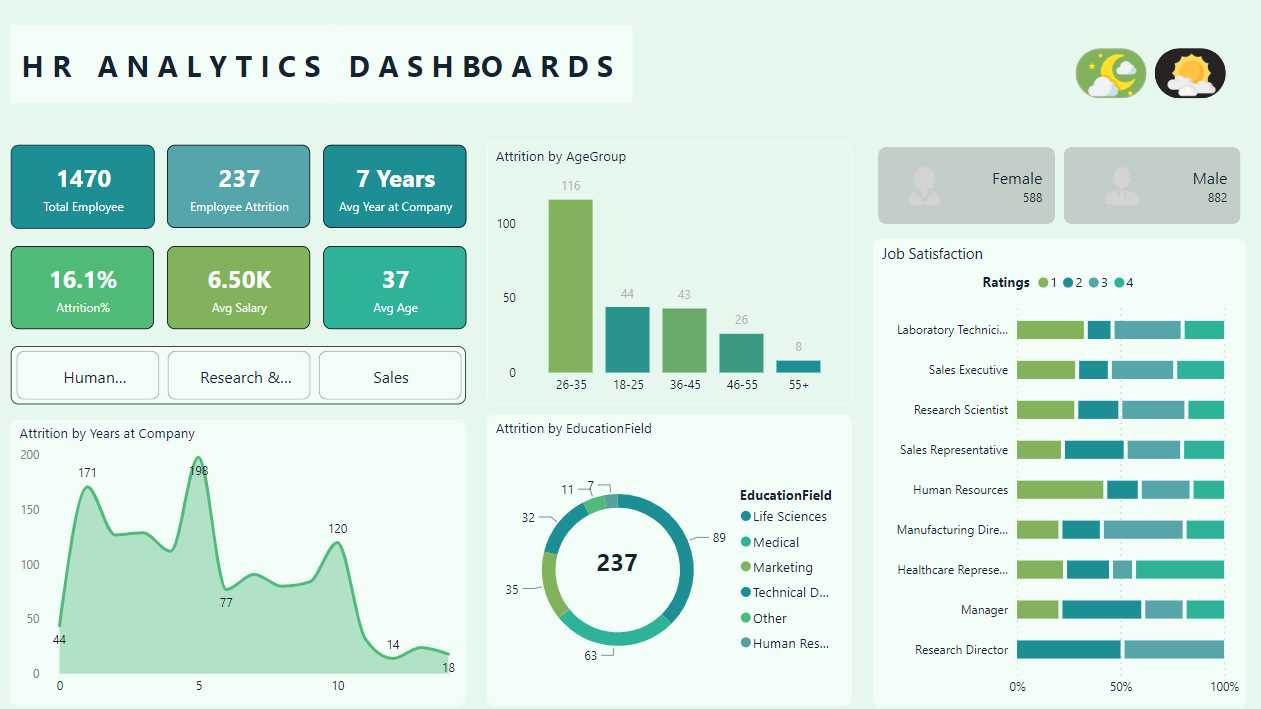

What the dashboard file says about the page in this screenshot:
{"tool":"powerbi","page":{"name":"OVERVIEW","canvas":[1280,720],"ordinal":0},"visuals":[{"type":"shape","box":[0,0,1280,710],"z":0},{"type":"shape","box":[18.6,28.6,71.4,78.6],"z":0,"group":"g1"},{"type":"shape","box":[90,28.6,254.3,78.6],"z":1000,"group":"g1"},{"type":"image","box":[1106.2,166.2,47.5,47.5],"z":1000},{"type":"shape","box":[337.2,28.6,302.9,78.6],"z":2000,"group":"g1"},{"type":"image","box":[908.8,166.2,47.5,47.5],"z":2000},{"type":"card","fields":{"Values":["Key Measures.Employee Count"]},"box":[18.8,148.8,143.8,83.8],"z":3000},{"type":"areaChart","title":"Attrition by Years at Company","fields":{"Y":["CountNonNull(HR_Analytics.Attrition)"],"Category":["HR_Analytics.YearsAtCompany"]},"box":[18.8,423.8,455,286.2],"z":4000},{"type":"donutChart","title":"Attrition by EducationField","fields":{"Y":["Key Measures.Employee Attrition"],"Category":["HR_Analytics.EducationField"]},"box":[495,418.8,365,291.2],"z":5000},{"type":"clusteredColumnChart","title":"Attrition by AgeGroup","fields":{"Category":["HR_Analytics.AgeGroup"],"Y":["Key Measures.Employee Attrition"]},"box":[495,146.2,365,262.5],"z":6000},{"type":"hundredPercentStackedBarChart","title":"Job Satisfaction","fields":{"Category":["HR_Analytics.JobRole"],"Y":["Key Measures.Employee Attrition"],"Series":["HR_Analytics.JobSatisfaction"]},"box":[881,242,373,468],"z":7000},{"type":"card","fields":{"Values":["Key Measures.Employee Attrition"]},"box":[174.6,148.8,143,83],"z":8000},{"type":"card","fields":{"Values":["Key Measures.Years With Text"]},"box":[331,148.8,143,83],"z":9000},{"type":"card","fields":{"Values":["Key Measures.Attrition%"]},"box":[18.4,249.8,143,83],"z":10000},{"type":"card","fields":{"Values":["Key Measures.Avg Salary"]},"box":[174.8,249.8,143,83],"z":11000},{"type":"card","fields":{"Values":["Key Measures.Avg Age"]},"box":[331.2,249.8,143,83],"z":12000},{"type":"advancedSlicerVisual","fields":{"Values":["HR_Analytics.Gender"]},"box":[881,146,373,87],"z":13000},{"type":"advancedSlicerVisual","fields":{"Values":["HR_Analytics.Department"]},"box":[18.8,350,455,58.8],"z":14000},{"type":"advancedSlicerVisual","fields":{"Values":["Dark_mode.Label"]},"box":[1078.6,47.1,161.4,60],"z":15000},{"type":"card","fields":{"Values":["Key Measures.Employee Attrition"]},"box":[587.1,531.4,75.7,71.4],"z":16000},{"type":"group","id":"g1","title":"Group 1","box":[18.6,28.6,621.4,78.6],"z":17000}]}

Visuals, with their boxes in screenshot pixels (x1, y1, x2, y2), scaled from the page's 1280x720 canvas onto the 1261x709 screenshot:
shape: 0:0:1260:699
shape: 18:28:89:106
shape: 89:28:339:106
image: 1090:164:1137:210
shape: 332:28:631:106
image: 895:164:942:210
card - Key Measures.Employee Count: 19:147:160:229
"Attrition by Years at Company" areaChart: 19:417:467:699
"Attrition by EducationField" donutChart: 488:412:847:699
"Attrition by AgeGroup" clusteredColumnChart: 488:144:847:402
"Job Satisfaction" hundredPercentStackedBarChart: 868:238:1235:699
card - Key Measures.Employee Attrition: 172:147:313:228
card - Key Measures.Years With Text: 326:147:467:228
card - Key Measures.Attrition%: 18:246:159:328
card - Key Measures.Avg Salary: 172:246:313:328
card - Key Measures.Avg Age: 326:246:467:328
advancedSlicerVisual - HR_Analytics.Gender: 868:144:1235:229
advancedSlicerVisual - HR_Analytics.Department: 19:345:467:403
advancedSlicerVisual - Dark_mode.Label: 1063:46:1222:105
card - Key Measures.Employee Attrition: 578:523:653:594
"Group 1" group: 18:28:630:106
